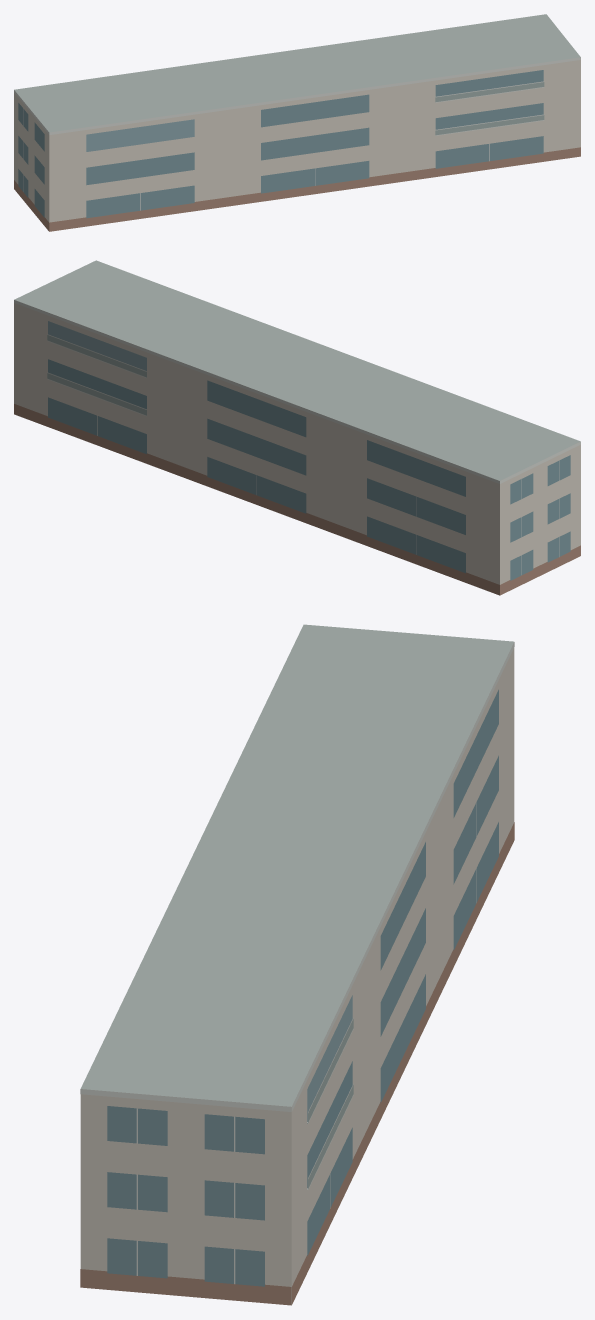
Rendered from survey-upis-32712827.glb.
3 views of the same model, one above another, from view 1: azimuth 30°, elevation 25°; view 2: azimuth 150°, elevation 25°; view 3: azimuth 270°, elevation 25° (orthographic). The views are drawn at different scales.
Parts seen in each view (by area): view 1: survey-upis-32712827.tmp; view 2: survey-upis-32712827.tmp; view 3: survey-upis-32712827.tmp.
Boxes of the visible parts, <box> form: survey-upis-32712827.tmp: <box>14,14,580,231</box>; survey-upis-32712827.tmp: <box>14,260,580,595</box>; survey-upis-32712827.tmp: <box>80,624,514,1305</box>.
Bounding box in the file's own units: 47.68 × 9.15 × 18.14.
